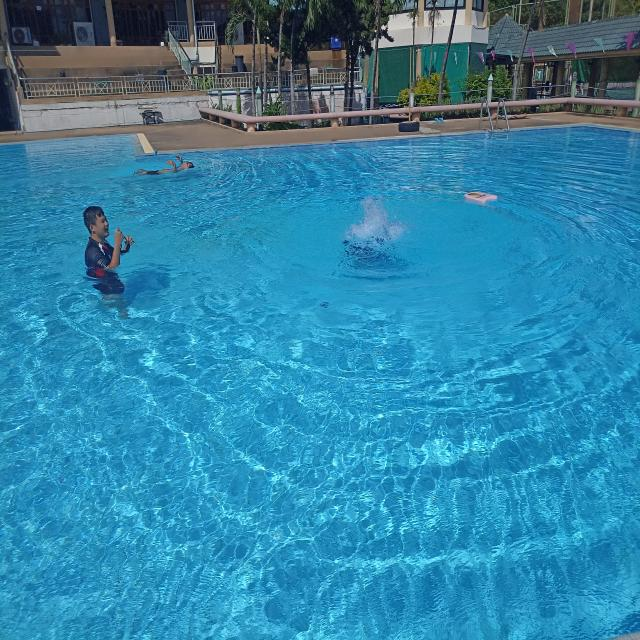Swimming: (46, 209, 160, 304), (318, 195, 428, 292), (119, 150, 200, 183)
